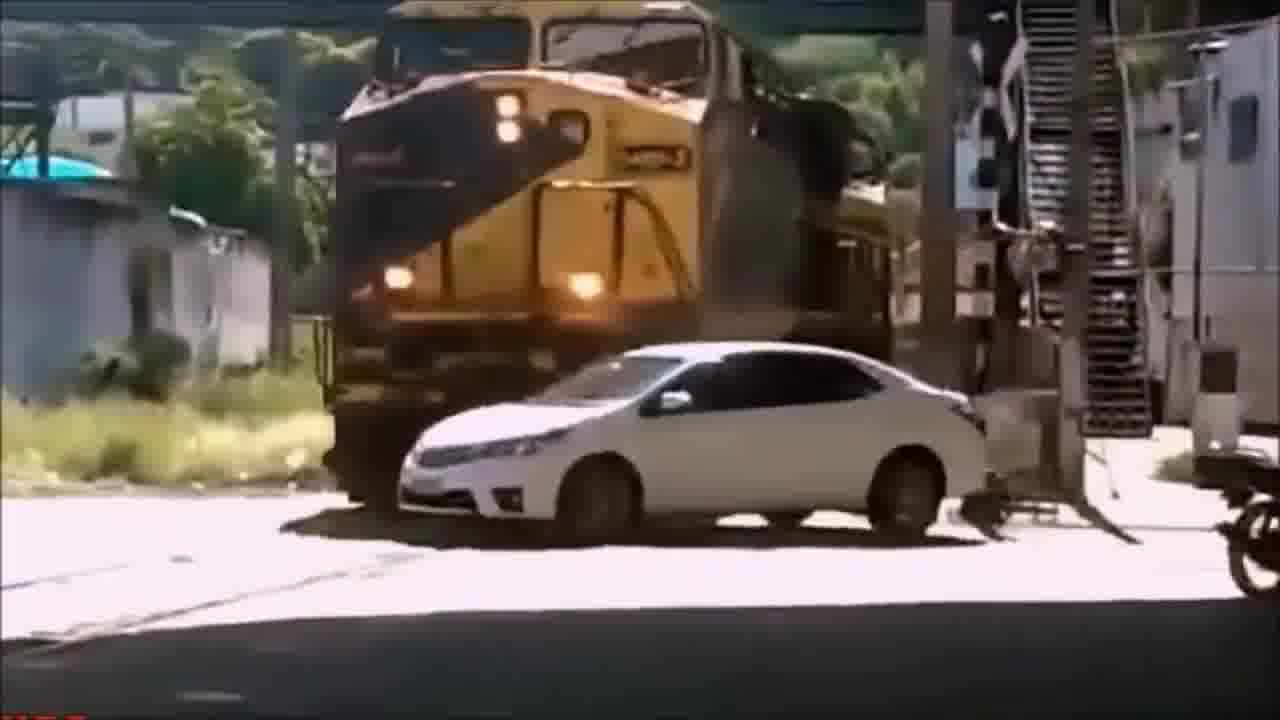crossing railway track: (405, 330, 1012, 550)
